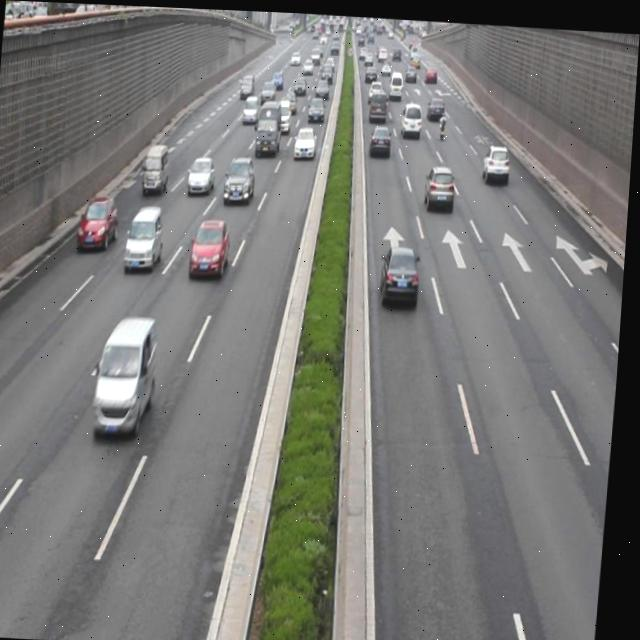car: (380, 240, 423, 302), (192, 215, 234, 277), (79, 192, 123, 250), (223, 151, 257, 202), (424, 158, 457, 210), (188, 152, 218, 193), (482, 138, 511, 179), (293, 122, 318, 158), (369, 118, 393, 154)
truck: (96, 312, 163, 435), (125, 201, 167, 270), (255, 95, 284, 153), (142, 140, 172, 192)
